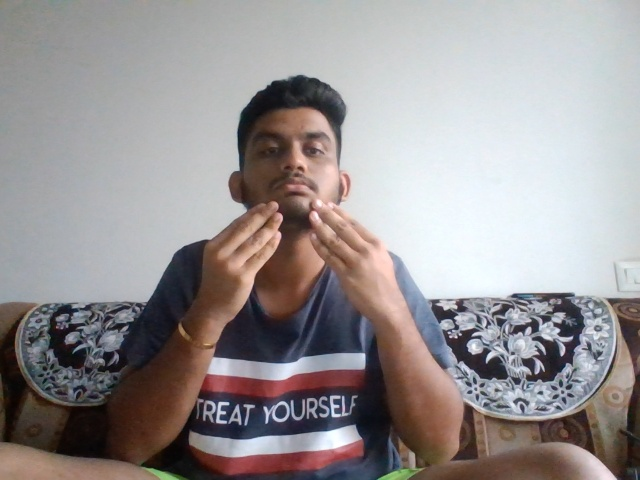Thank You: (197, 197, 407, 317)
